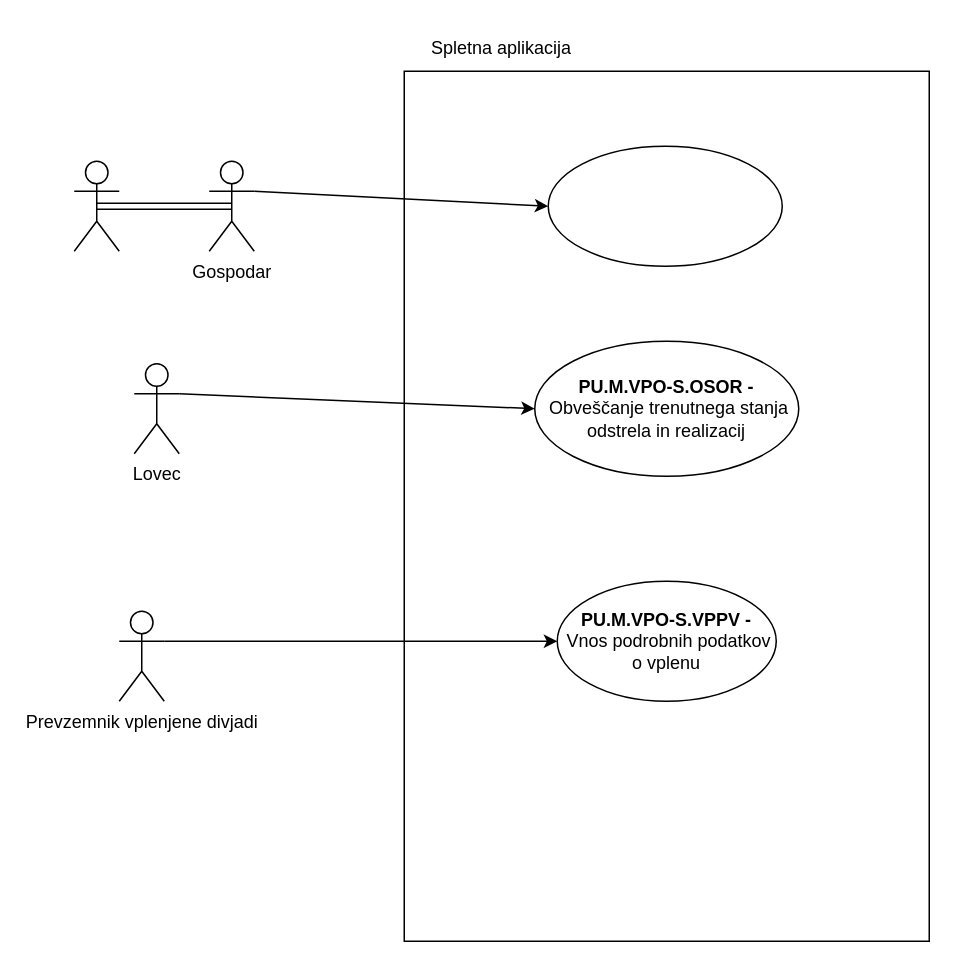
This 956x968 diagram has some shape labels left out. Here are the shapes that lost their labels. From the top down, the box of each, then its label:
(73, 160, 119, 251): Starešina
(547, 145, 782, 266): PU.M.VPO-S.PPOR - Pregled podatkov o odstrelu in realizaciji
